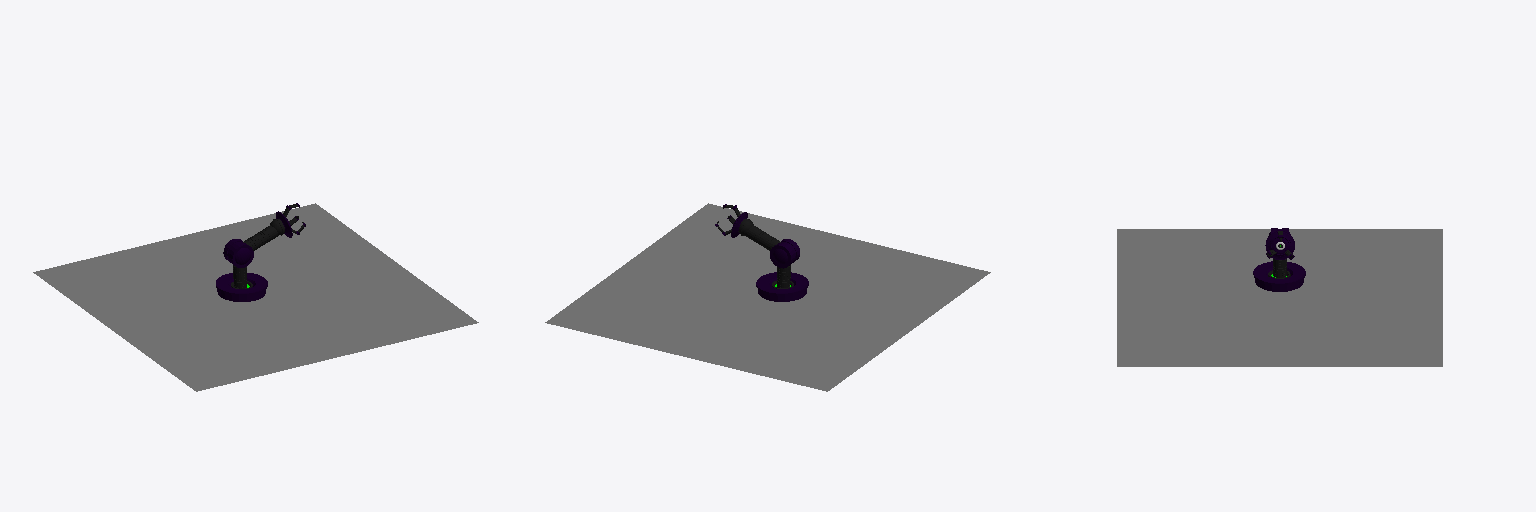
The model's file is RobotArm(1).obj.
The picture shows the model from 3 angles: view 1: azimuth 30°, elevation 25°; view 2: azimuth 150°, elevation 25°; view 3: azimuth 270°, elevation 25°; orthographic projection.
Visible parts, largest first — view 1: pPlane1, Hole_Base, pCylinder8; view 2: pPlane1, Hole_Base, pCylinder8; view 3: pPlane1, Hole_Base.
Part boxes in pixels (bbox=[...]): pPlane1: bbox=[33, 203, 478, 391]; Hole_Base: bbox=[216, 273, 267, 301]; pCylinder8: bbox=[223, 239, 253, 267]; pPlane1: bbox=[545, 203, 990, 391]; Hole_Base: bbox=[756, 272, 808, 301]; pCylinder8: bbox=[770, 239, 799, 268]; pPlane1: bbox=[1117, 229, 1442, 366]; Hole_Base: bbox=[1253, 261, 1305, 291].
Size of the model in its own units: 231 by 64.91 by 231.